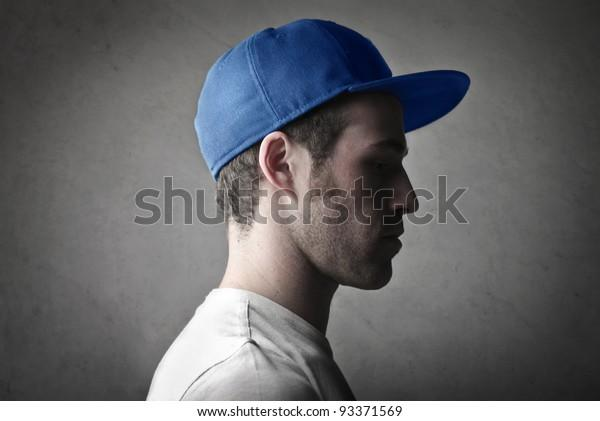cap: (199, 6, 474, 184)
